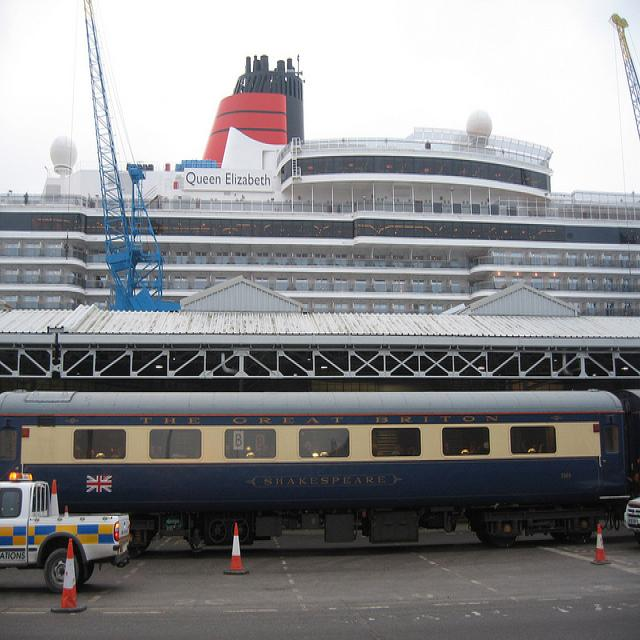Vehicle: (0, 472, 130, 594), (624, 495, 640, 532)
